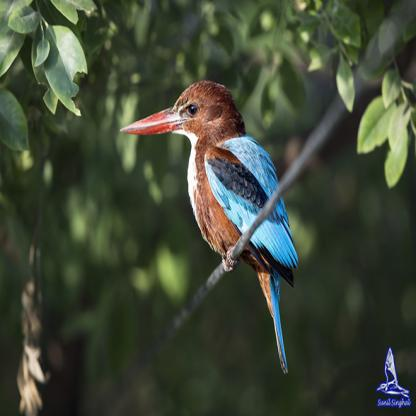Burung: (119, 80, 298, 374)
